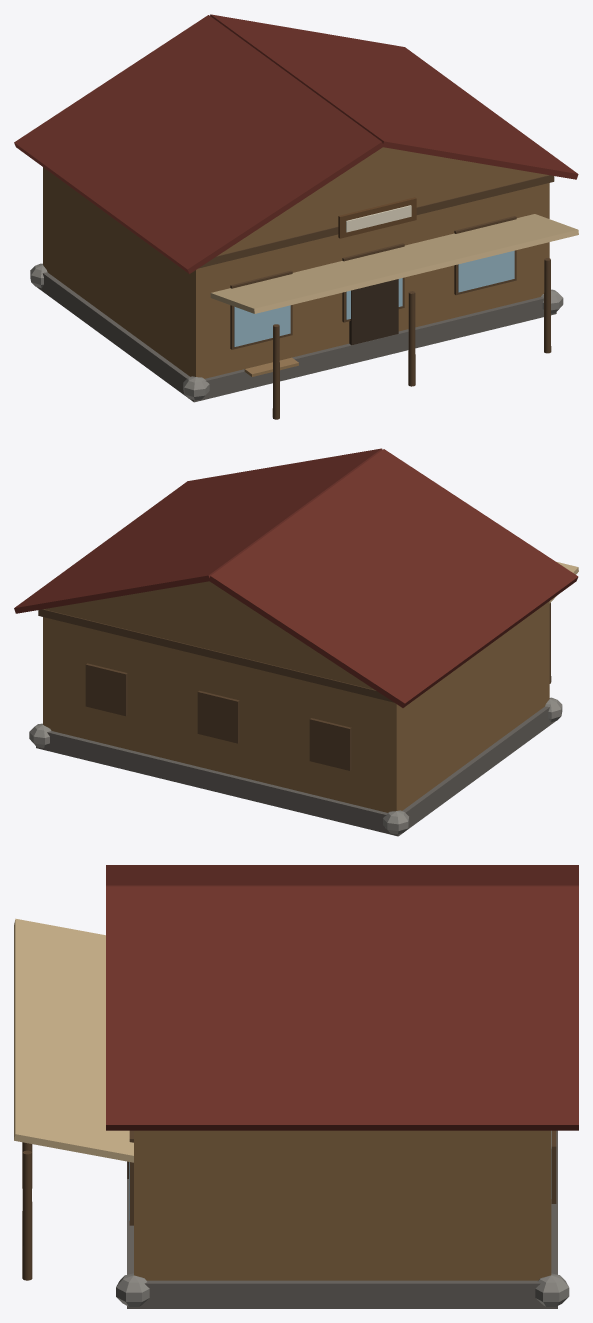
Rendered from gift_shop.glb.
3 renders of one model, top to bottom at view 1: azimuth 30°, elevation 25°; view 2: azimuth 150°, elevation 25°; view 3: azimuth 270°, elevation 25°, orthographic. The views are drawn at different scales.
Parts seen in each view (by area): view 1: roof, gift_shop, foundation, glass_pane (×2), door; view 2: roof, gift_shop, foundation; view 3: roof, gift_shop, foundation.
Part boxes in pixels (x1=…): roof: x1=14, y1=14, x2=578, y2=273; gift_shop: x1=43, y1=167, x2=578, y2=419; foundation: x1=30, y1=263, x2=563, y2=402; glass_pane (×2): x1=234, y1=250, x2=514, y2=346; door: x1=349, y1=279, x2=398, y2=345; roof: x1=14, y1=448, x2=578, y2=707; gift_shop: x1=38, y1=561, x2=578, y2=812; foundation: x1=29, y1=697, x2=562, y2=836; roof: x1=106, y1=865, x2=578, y2=1130; gift_shop: x1=14, y1=918, x2=556, y2=1280; foundation: x1=116, y1=1130, x2=569, y2=1308.
Bounding box in the file's own units: 13.27 × 7.2 × 12.19.
